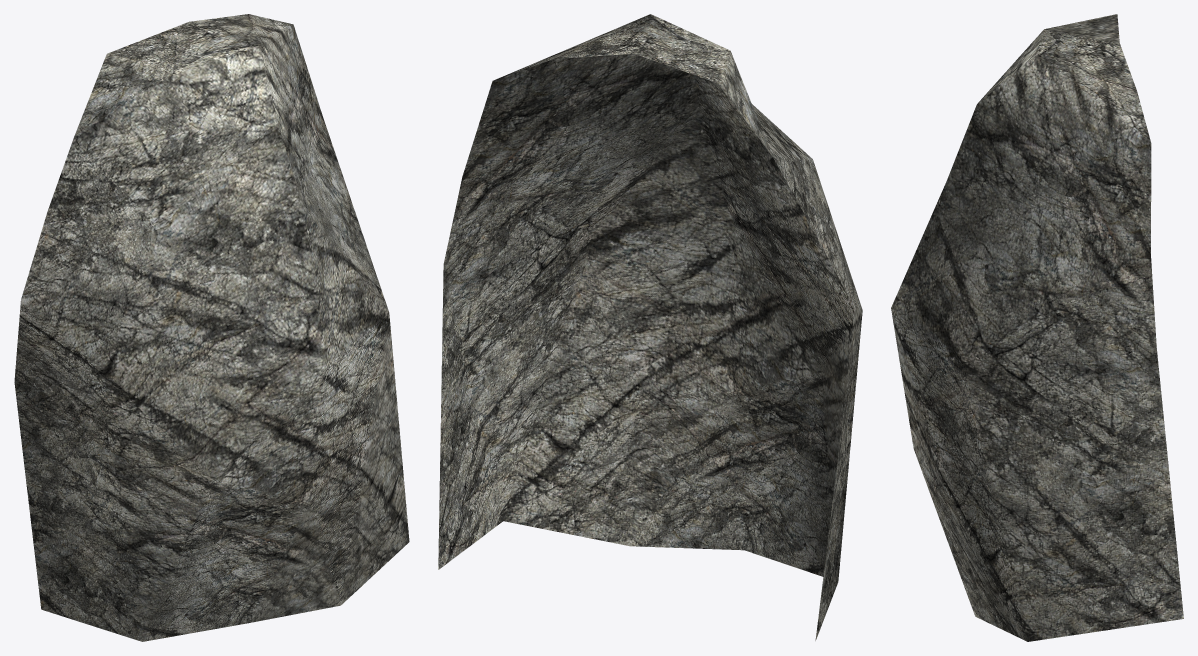
File: Rock-5.fbx
The picture shows the model from 3 angles, left to right: view 1: azimuth 30°, elevation 25°; view 2: azimuth 150°, elevation 25°; view 3: azimuth 270°, elevation 25°; orthographic projection. The views are drawn at different scales.
Visible parts, largest first — view 1: pCube1; view 2: pCube1; view 3: pCube1.
Boxes of the visible parts, <box> form: pCube1: <box>14,14,409,641</box>; pCube1: <box>438,14,862,640</box>; pCube1: <box>891,14,1183,641</box>.
Size of the model in its own units: 10.25 by 14.78 by 7.31.
Materials: 1 (1 with a texture image).
